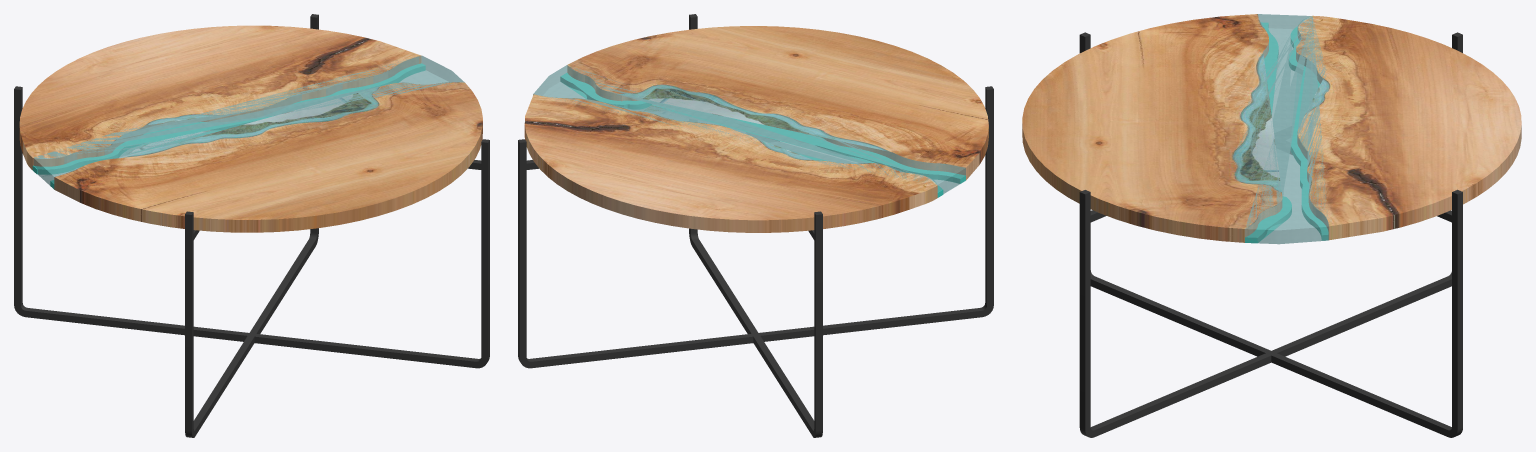
3 renders of one model, left to right at view 1: azimuth 30°, elevation 25°; view 2: azimuth 150°, elevation 25°; view 3: azimuth 270°, elevation 25°, orthographic. The views are drawn at different scales.
Visible parts, largest first — view 1: Group2, Group3, cof1, Group1, Group5; view 2: Group2, Group3, cof1, Group1, Group4; view 3: Group2, Group3, cof1, Group1, Group5, Group4.
Part boxes in pixels (x1,y1,x2,y2): Group2: (54, 82, 482, 232); Group3: (19, 25, 421, 169); cof1: (14, 14, 489, 437); Group1: (33, 55, 464, 187); Group5: (32, 63, 425, 174); Group2: (567, 26, 988, 180); Group3: (524, 94, 937, 232); cof1: (518, 14, 993, 437); Group1: (533, 65, 965, 193); Group4: (560, 73, 965, 183); Group2: (1022, 14, 1282, 242); Group3: (1296, 15, 1521, 240); cof1: (1079, 32, 1462, 437); Group1: (1233, 14, 1328, 244); Group5: (1288, 26, 1328, 240); Group4: (1245, 22, 1291, 243).
Bounding box in the file's own units: 0.7893 × 0.42 × 0.7699.
